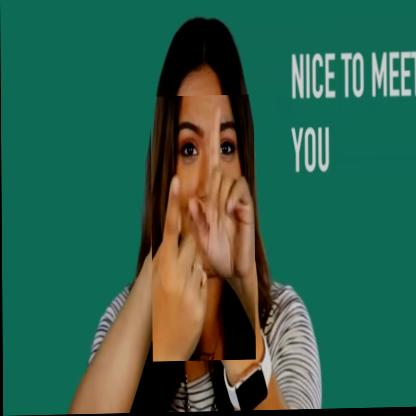NiceToMeetYou: (151, 96, 255, 362)
